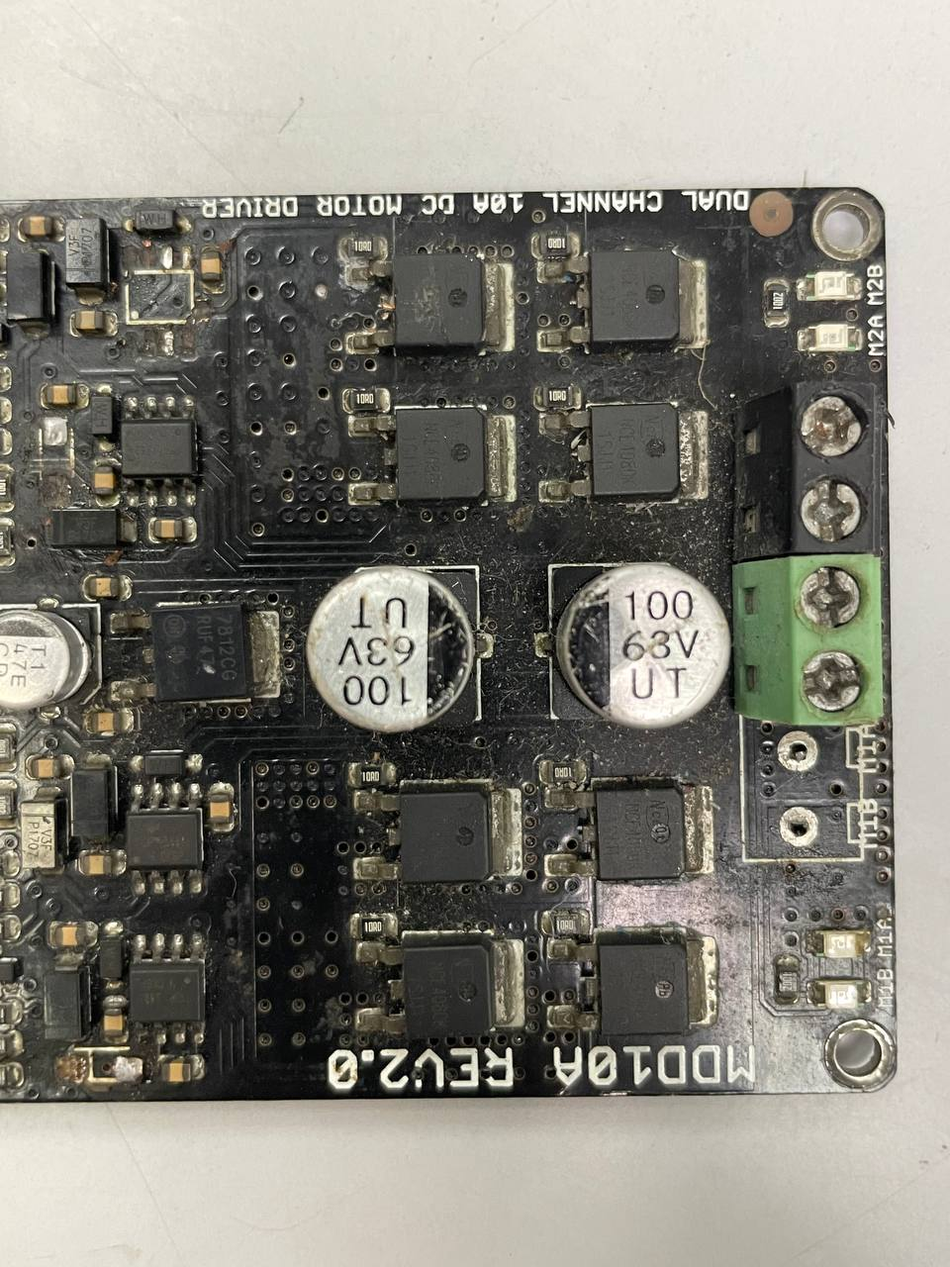missing_comp: (121, 263, 196, 327), (67, 1041, 143, 1088)
missing_tb: (739, 722, 880, 864)
